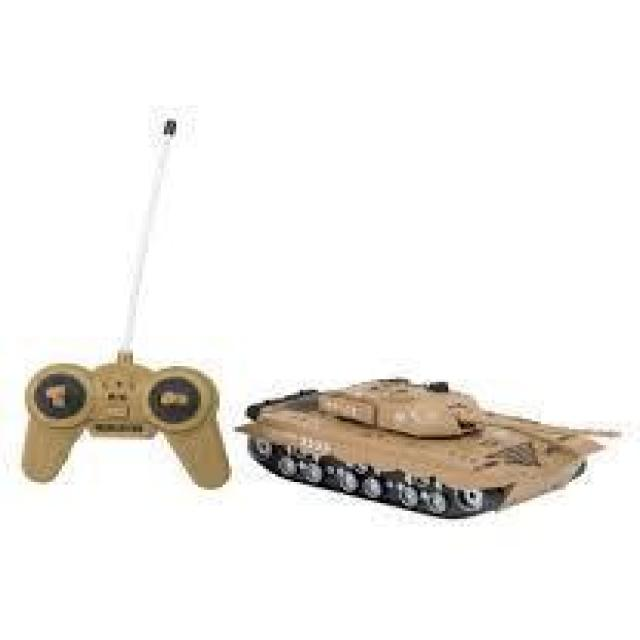Tanks: (246, 357, 623, 554)
